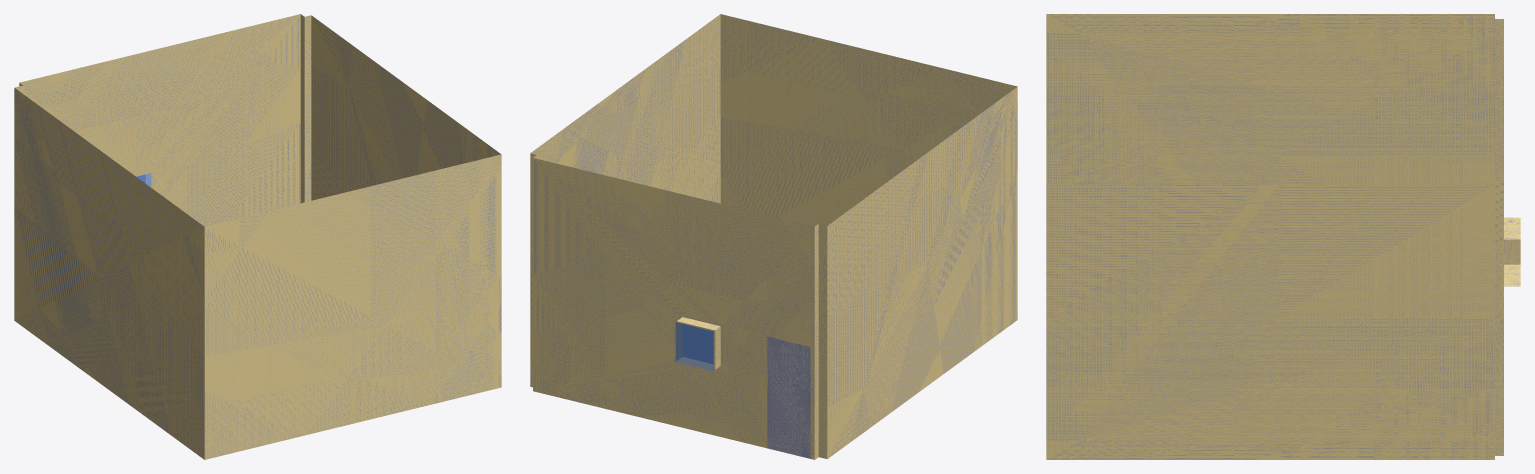
Rendered from CUA007.obj.
The picture shows the model from 3 angles, left to right: view 1: azimuth 30°, elevation 25°; view 2: azimuth 150°, elevation 25°; view 3: azimuth 270°, elevation 25°; orthographic projection. The views are drawn at different scales.
Visible parts, largest first — view 1: Mesh5 CUA007 Model; view 2: Mesh5 CUA007 Model, Mesh1 Group1 CUA007 Model; view 3: Mesh5 CUA007 Model, Mesh1 Group1 CUA007 Model.
Boxes of the visible parts, box(x1,y1,x2,y2) form: Mesh5 CUA007 Model: box(14, 14, 501, 459); Mesh5 CUA007 Model: box(530, 14, 1017, 459); Mesh1 Group1 CUA007 Model: box(674, 315, 722, 373); Mesh5 CUA007 Model: box(1046, 14, 1503, 459); Mesh1 Group1 CUA007 Model: box(1504, 217, 1520, 286).
Size of the model in its own units: 5.48 by 4.11 by 6.43.
